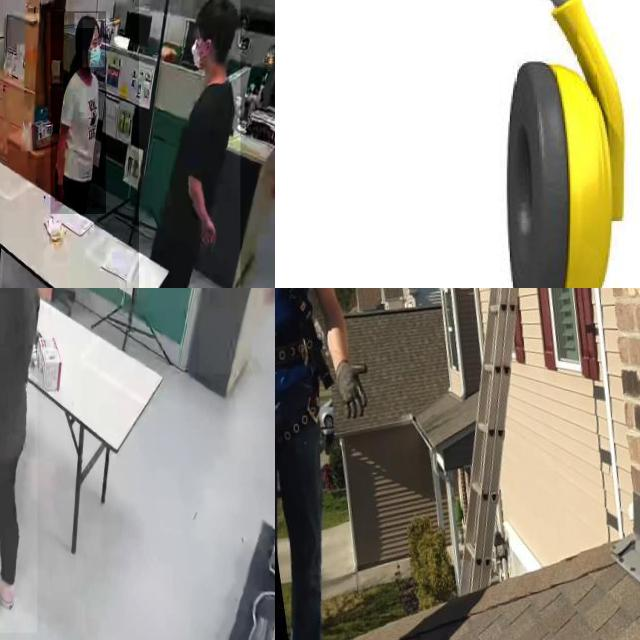Ear-protection: (275, 0, 623, 288)
Harness: (275, 288, 336, 392)
face_mask: (187, 32, 213, 78), (83, 19, 105, 67)
hand_noglove: (198, 217, 216, 247), (55, 185, 65, 202)
head_nohelmet: (195, 0, 238, 23), (75, 13, 99, 29)
person: (139, 0, 241, 288), (0, 288, 37, 633), (50, 11, 106, 215)
shoes: (0, 558, 16, 611)
